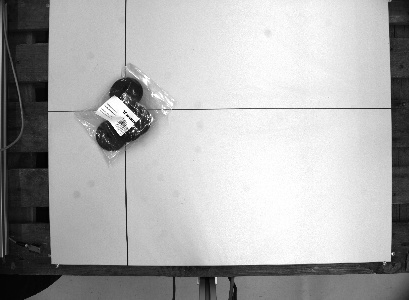t1: (70, 62, 176, 166)
